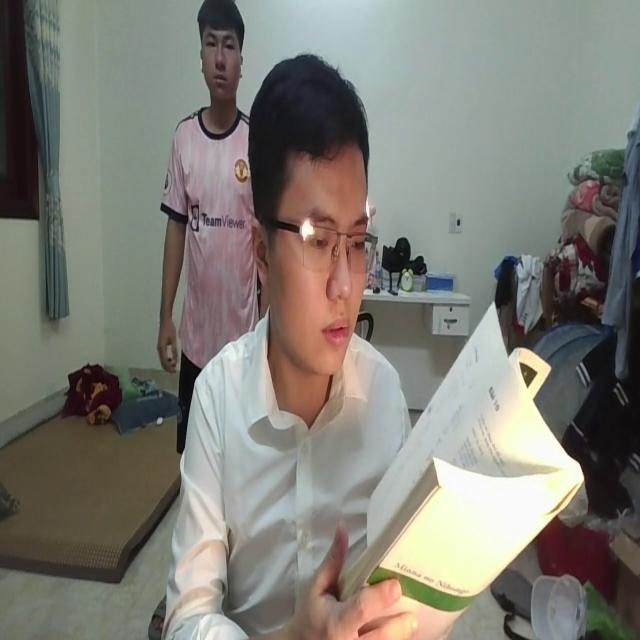book: (348, 294, 586, 640)
extra_person: (158, 0, 266, 484)
student: (166, 59, 411, 640)
